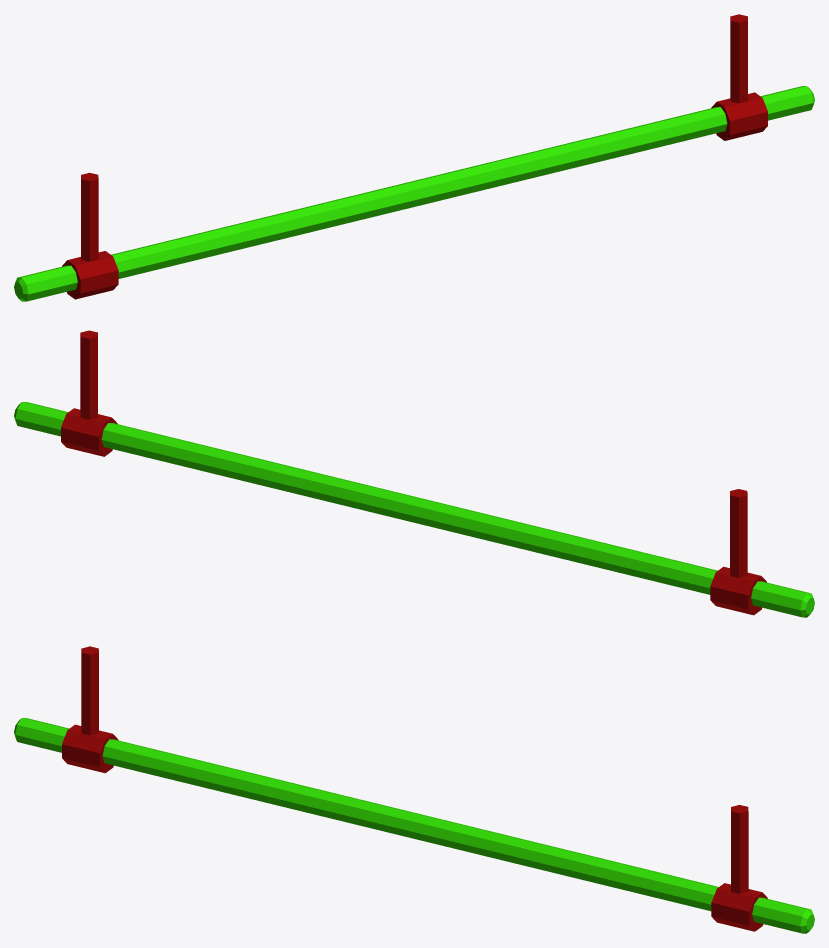
File: Hanging Pipe.fbx
The picture shows the model from 3 angles, top to bottom: view 1: azimuth 30°, elevation 25°; view 2: azimuth 150°, elevation 25°; view 3: azimuth 330°, elevation 25°; orthographic projection.
Parts seen in each view (by area): view 1: Pipe, Left handle, Right handle; view 2: Pipe, Left handle, Right handle; view 3: Pipe, Right handle, Left handle.
Boxes of the visible parts, left/top/right/bottom form: Pipe: left=14, top=86, right=814, bottom=301; Left handle: left=62, top=172, right=118, bottom=299; Right handle: left=711, top=14, right=767, bottom=140; Pipe: left=14, top=402, right=814, bottom=617; Left handle: left=710, top=489, right=766, bottom=615; Right handle: left=61, top=330, right=117, bottom=456; Pipe: left=14, top=718, right=814, bottom=933; Right handle: left=711, top=805, right=767, bottom=931; Left handle: left=62, top=646, right=118, bottom=773.
Size of the model in its own units: 600 by 83.26 by 24.5.
